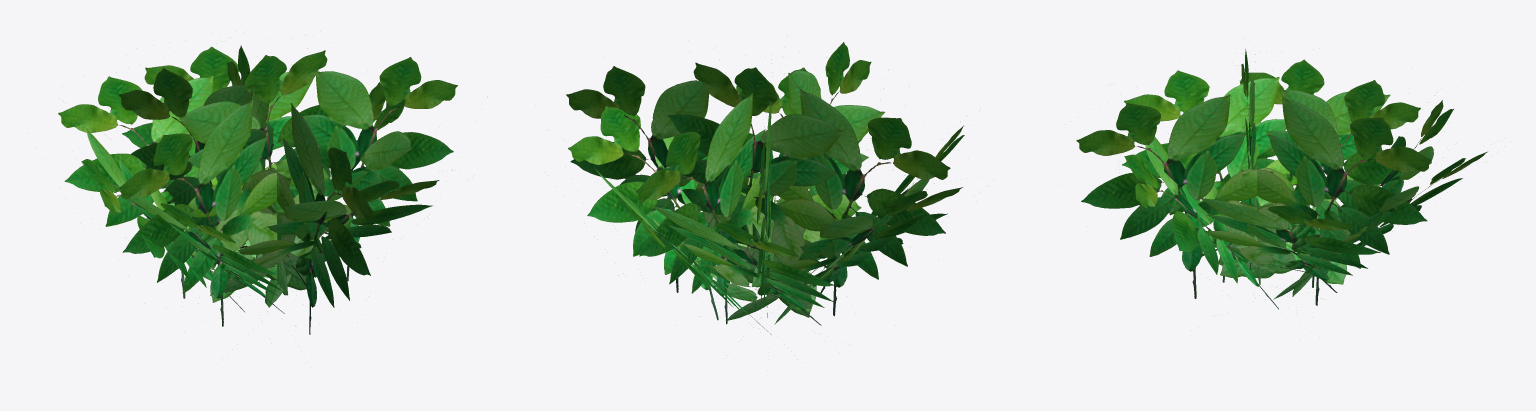
The model's file is bush6.FBX.
The picture shows the model from 3 angles, left to right: view 1: azimuth 30°, elevation 25°; view 2: azimuth 150°, elevation 25°; view 3: azimuth 270°, elevation 25°; orthographic projection. The views are drawn at different scales.
Visible parts, largest first — view 1: bush6; view 2: bush6; view 3: bush6.
Boxes of the visible parts, box(x1,y1,x2,y2) form: bush6: box(58, 45, 457, 334); bush6: box(565, 42, 964, 334); bush6: box(1076, 49, 1487, 309).
Bounding box in the file's own units: 2.5 × 1.76 × 2.57.
